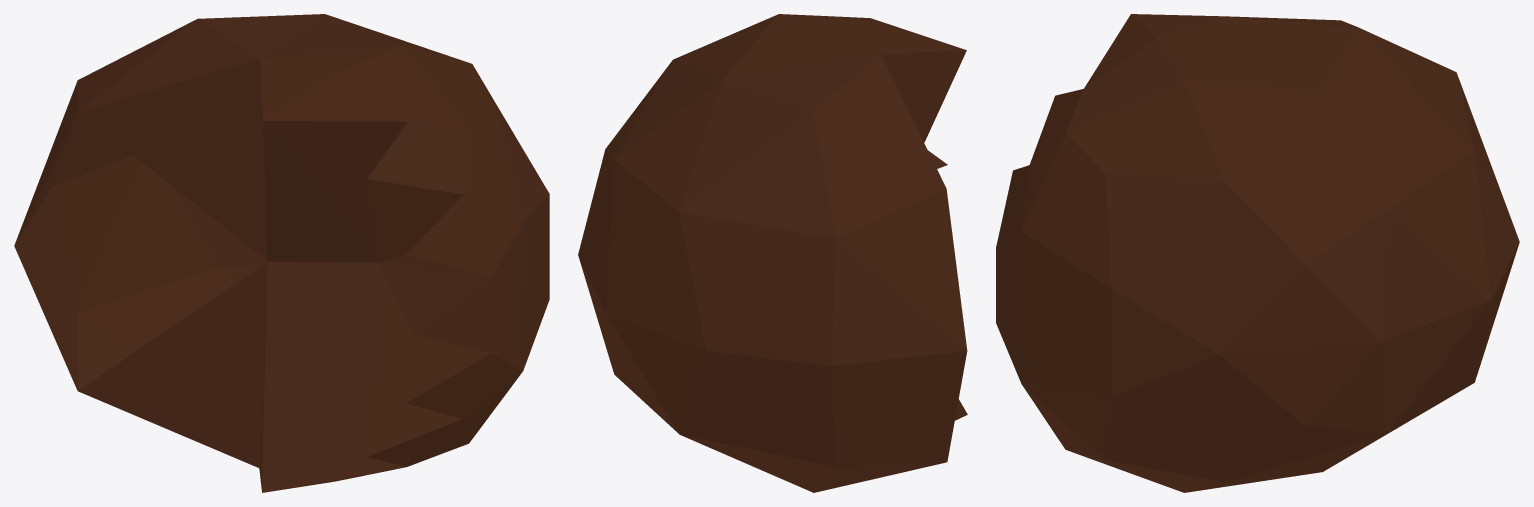
File: hair1.glb
3 renders of one model, left to right at view 1: azimuth 30°, elevation 25°; view 2: azimuth 150°, elevation 25°; view 3: azimuth 270°, elevation 25°, orthographic. The views are drawn at different scales.
Parts seen in each view (by area): view 1: tomodachi-2026-03-05-15-18-18-764.012; view 2: tomodachi-2026-03-05-15-18-18-764.012; view 3: tomodachi-2026-03-05-15-18-18-764.012.
Part boxes in pixels (x1,y1,x2,y2): tomodachi-2026-03-05-15-18-18-764.012: (14, 14, 549, 492); tomodachi-2026-03-05-15-18-18-764.012: (578, 14, 967, 492); tomodachi-2026-03-05-15-18-18-764.012: (996, 14, 1519, 492).
Size of the model in its own units: 1.18 by 1.08 by 1.23.
Materials: 1 (1 with a texture image).
